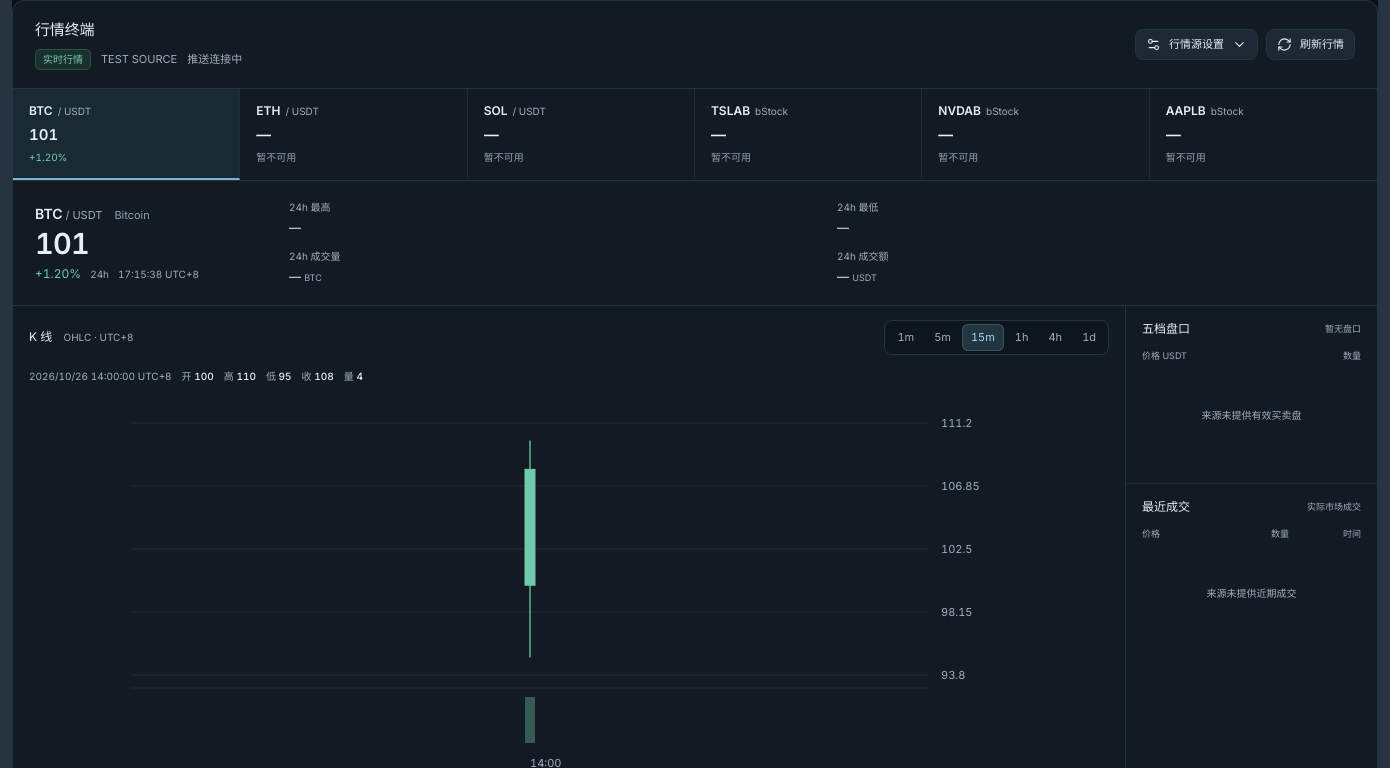
it: real candle terminal › switches symbol/interval and rejects late history from an old source
Click the button "1h" at (1022, 337), box [1006,324,1037,350]
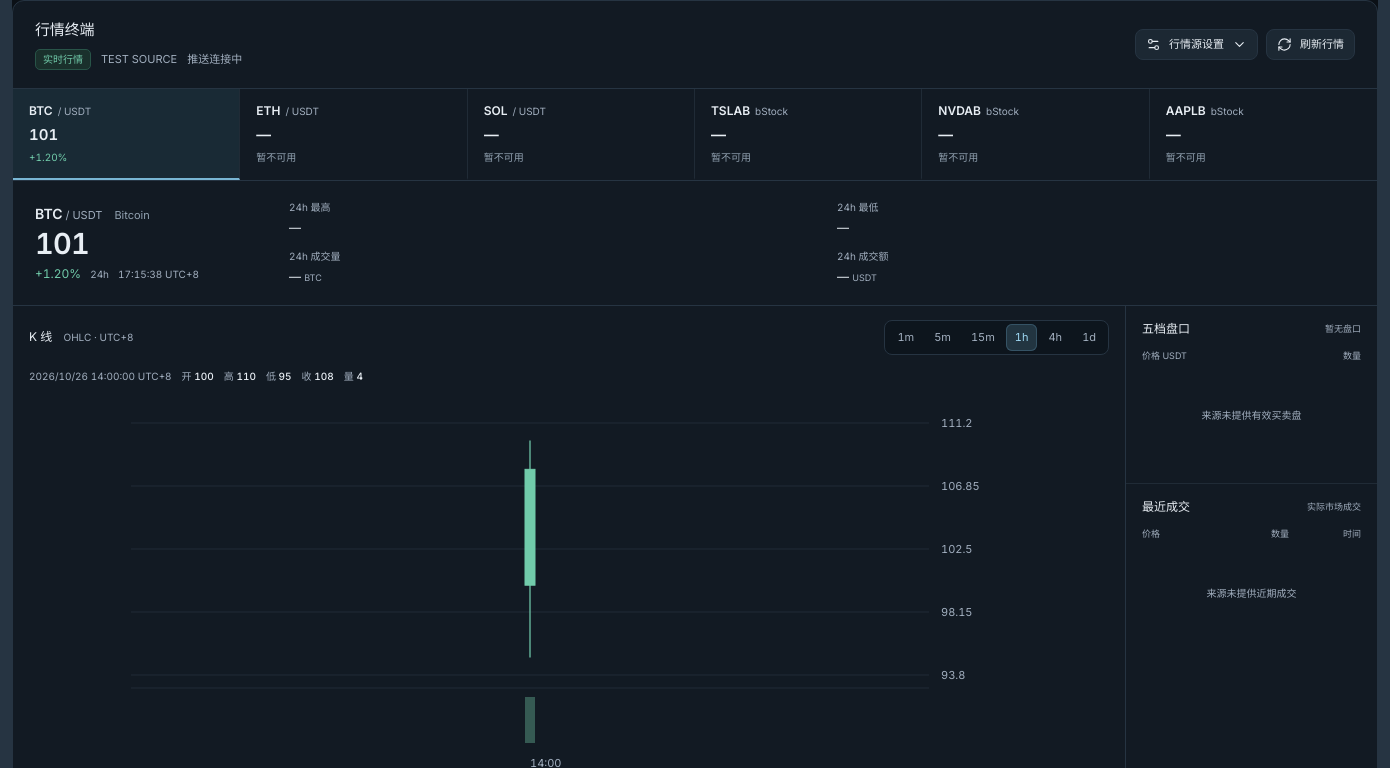
Click the button "ETH/ USDT — 暂不可用" at (354, 134), box [240,88,468,180]
(page scrolled)
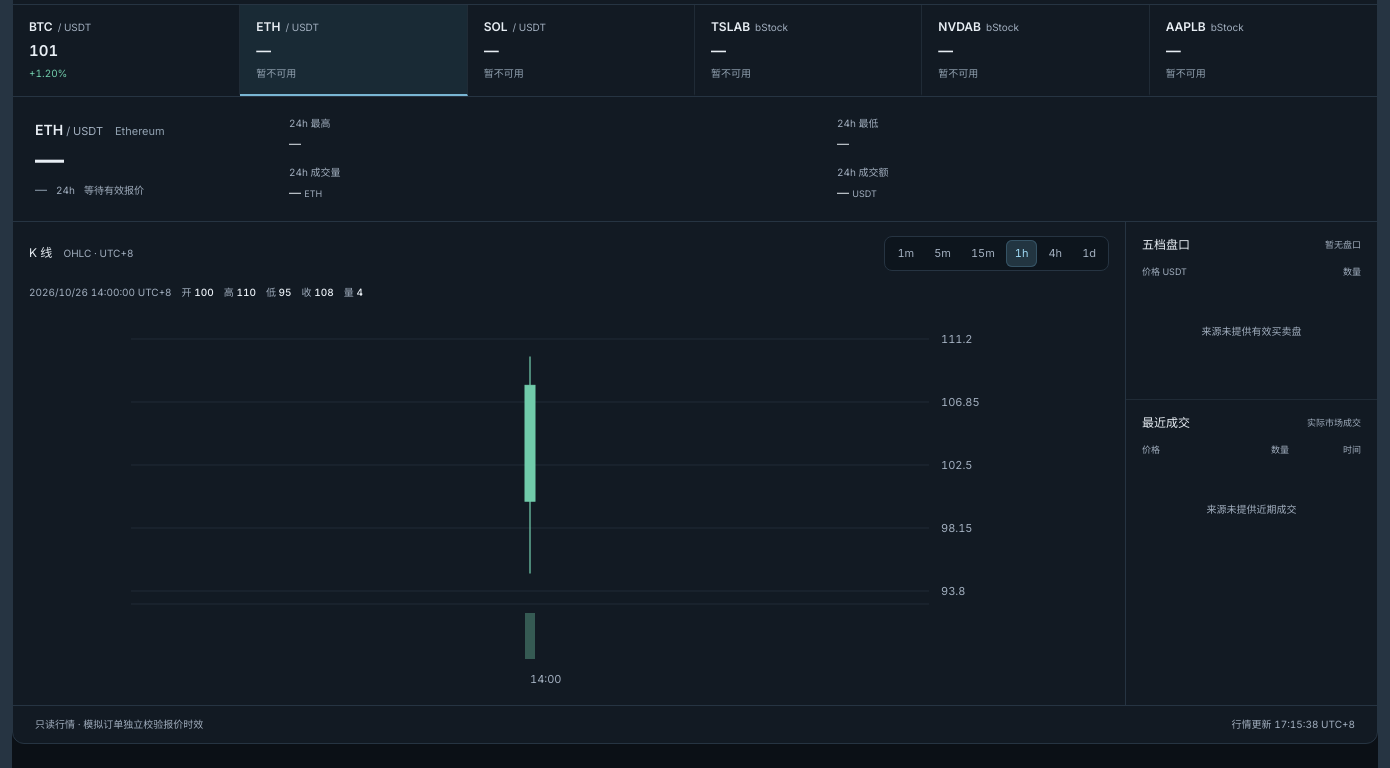
Expected: the picture named "ETHUSDT 1h" is shown, [29,320,1109,694]
